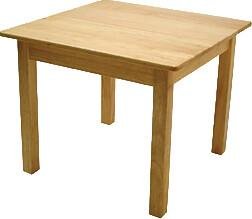table: (1, 1, 252, 218)
